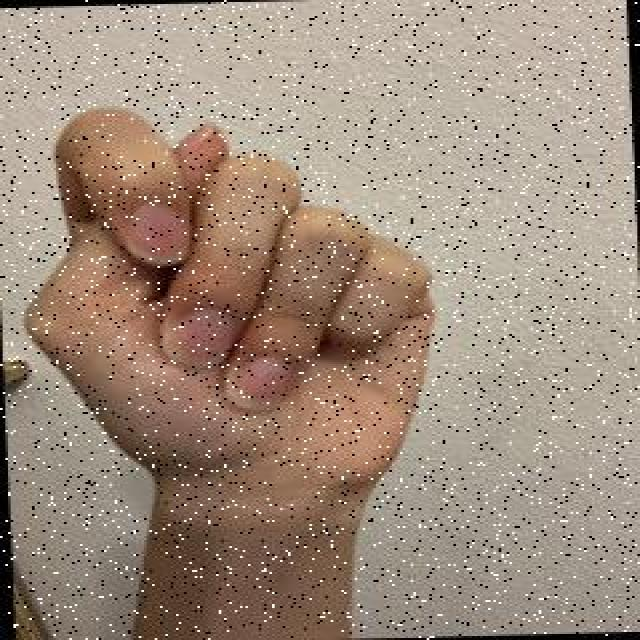T: (8, 92, 451, 506)
